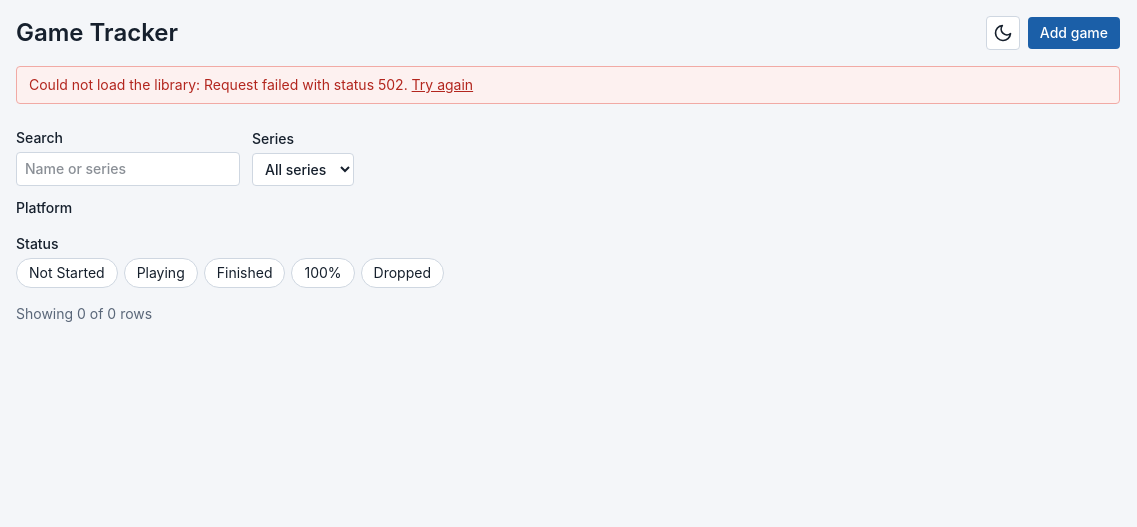
Test case: LibraryPage › shows the error and loads again on retry
This screenshot has width=1137, height=527.
Expected: the message shows "Request failed with status 502.", [204, 76, 408, 93]
Click the button "Try again" at coordinates (442, 85), box [412, 75, 473, 95]
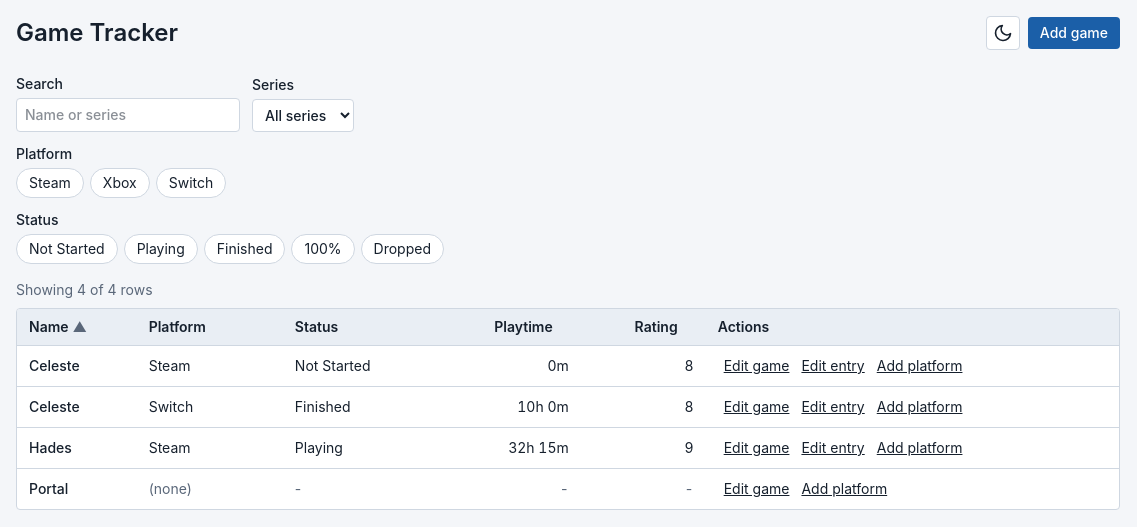
Expected: the table is shown, [17, 309, 1119, 509]
Expected: the message "Could not load the library: Request failed with status 502. Try again" is gone
